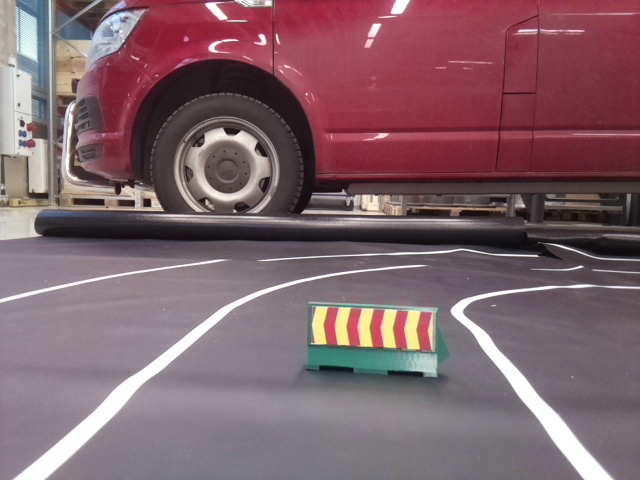ClosedRoadStand: (310, 304, 437, 374)
